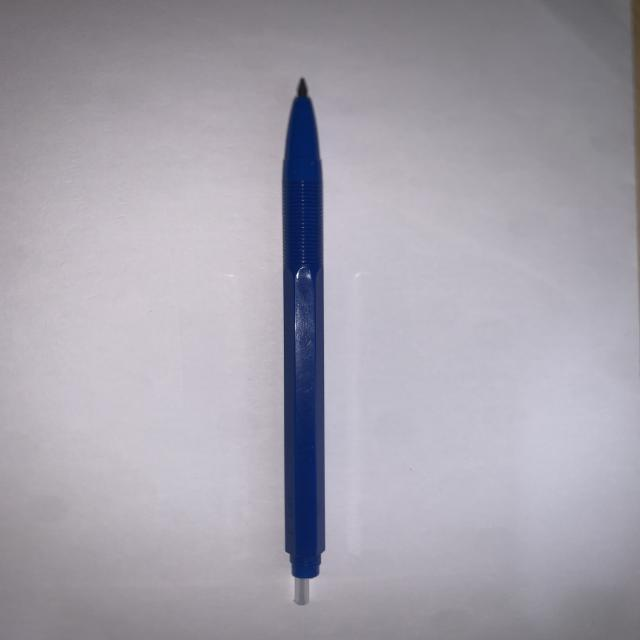Pulpen: (235, 67, 363, 622)
